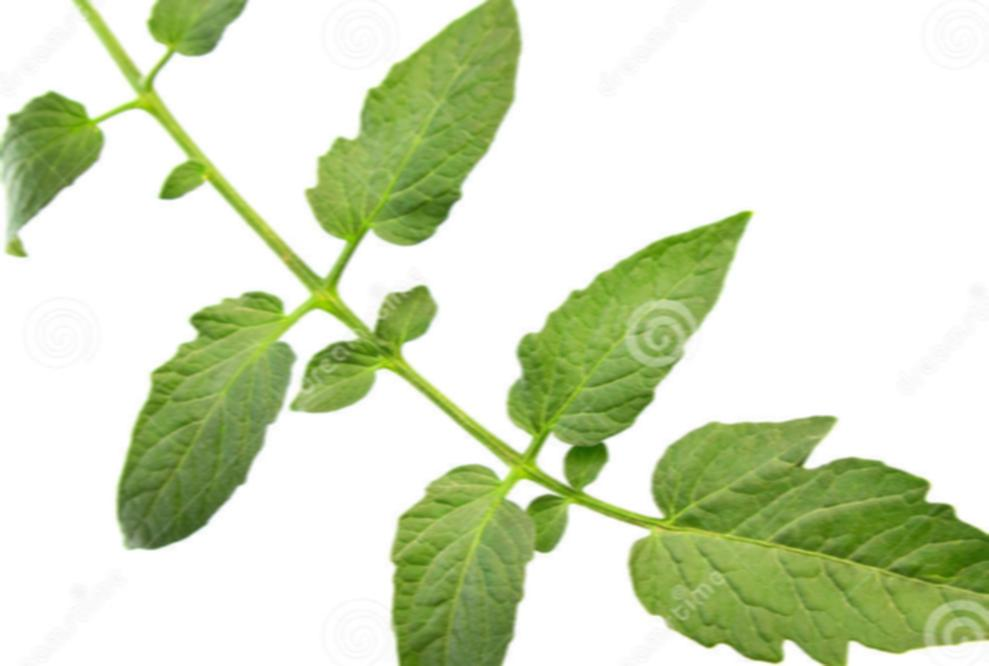Tomato leaf: (642, 390, 989, 666), (251, 0, 573, 278), (47, 277, 313, 573), (514, 195, 785, 468), (326, 445, 617, 666), (0, 86, 122, 276), (144, 0, 331, 89)
